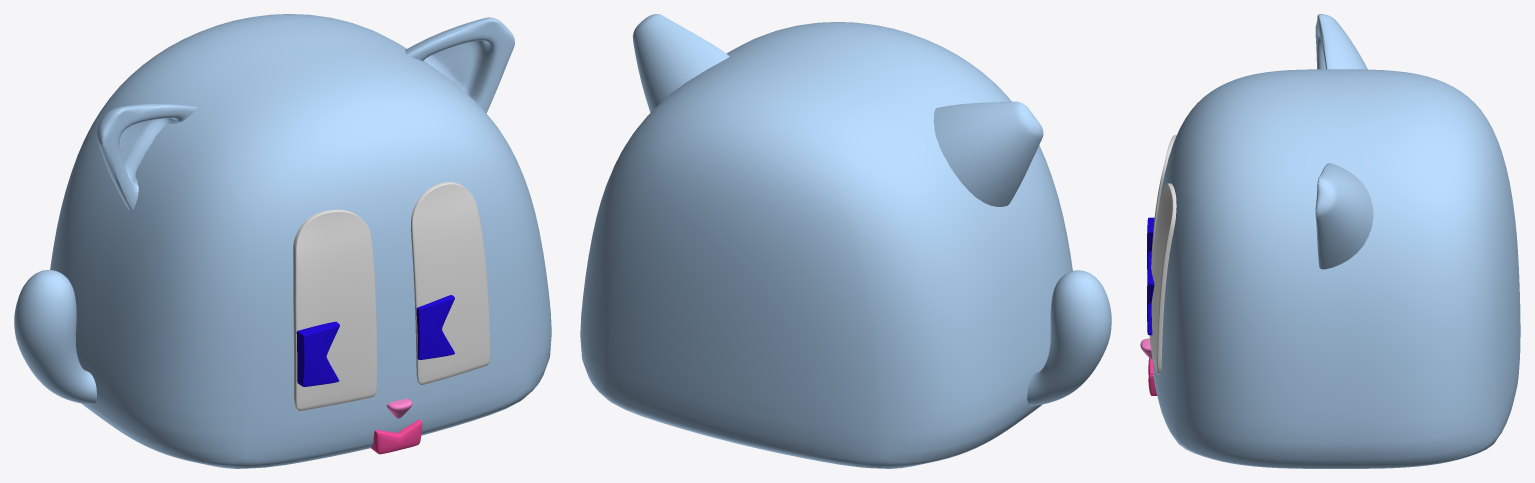
The model's file is Mascot_Mewmewtutor.glb.
The picture shows the model from 3 angles, left to right: view 1: azimuth 30°, elevation 25°; view 2: azimuth 150°, elevation 25°; view 3: azimuth 270°, elevation 25°; orthographic projection. The views are drawn at different scales.
Parts seen in each view (by area): view 1: Cube.006, Cube.001, Cylinder.001, Cylinder, Cube.004, Cube.003; view 2: Cube.006, Cylinder.001, Cylinder; view 3: Cube.006, Cylinder.001, Cube.001, Cube.004.
Part boxes in pixels (<box>): Cube.006: <box>50,14,551,468</box>; Cube.001: <box>293,182,490,410</box>; Cylinder.001: <box>97,17,514,210</box>; Cylinder: <box>14,270,96,404</box>; Cube.004: <box>293,295,454,386</box>; Cube.003: <box>371,419,422,454</box>; Cube.006: <box>580,22,1072,468</box>; Cylinder.001: <box>632,14,1043,206</box>; Cylinder: <box>1027,270,1111,405</box>; Cube.006: <box>1152,69,1520,468</box>; Cylinder.001: <box>1315,14,1373,269</box>; Cube.001: <box>1149,135,1176,374</box>; Cube.004: <box>1147,217,1154,335</box>.
Bounding box in the file's own units: 2.14 × 1.36 × 1.58.
